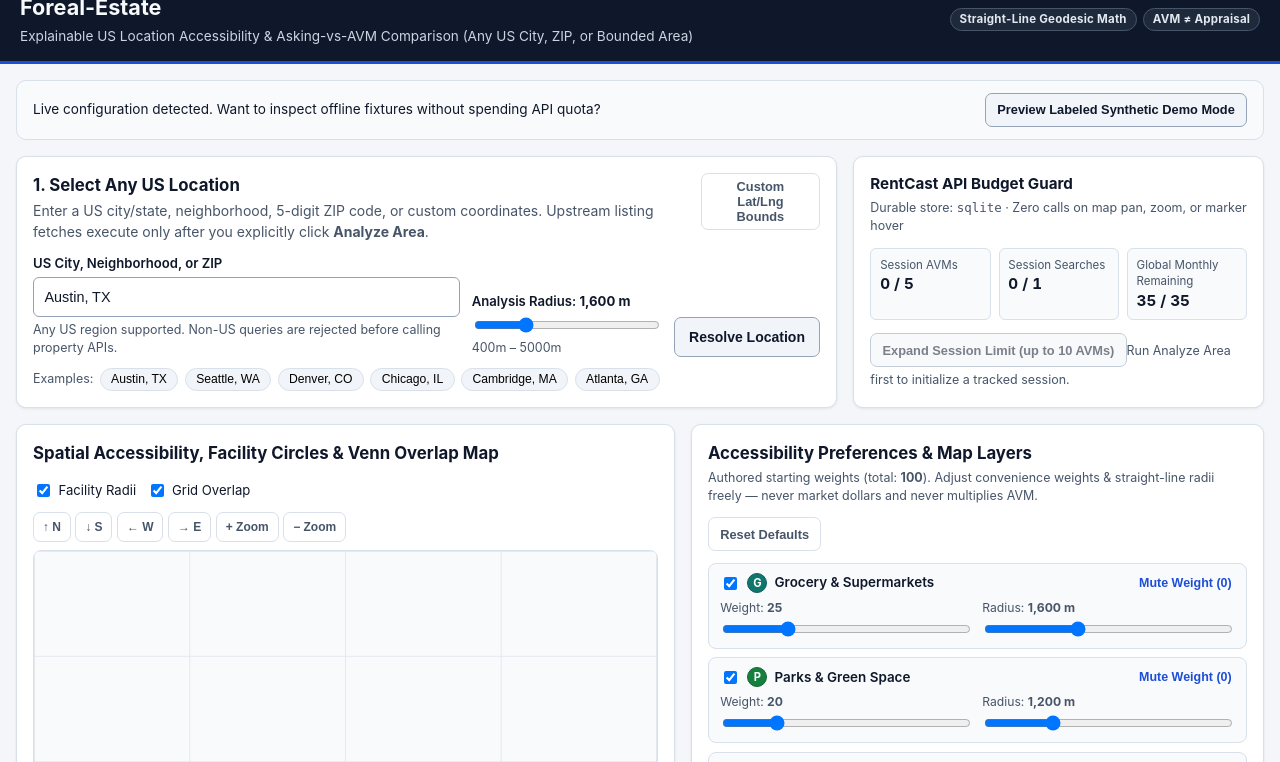
Foreal-Estate Client UI › aborts and ignores stale home AVM responses when switching homes and surfaces quota_exhausted state
Earlier steps of the test are not shown.
Click the button "Resolve Location".
click(747, 337)  # box left=674, top=317, right=820, bottom=357
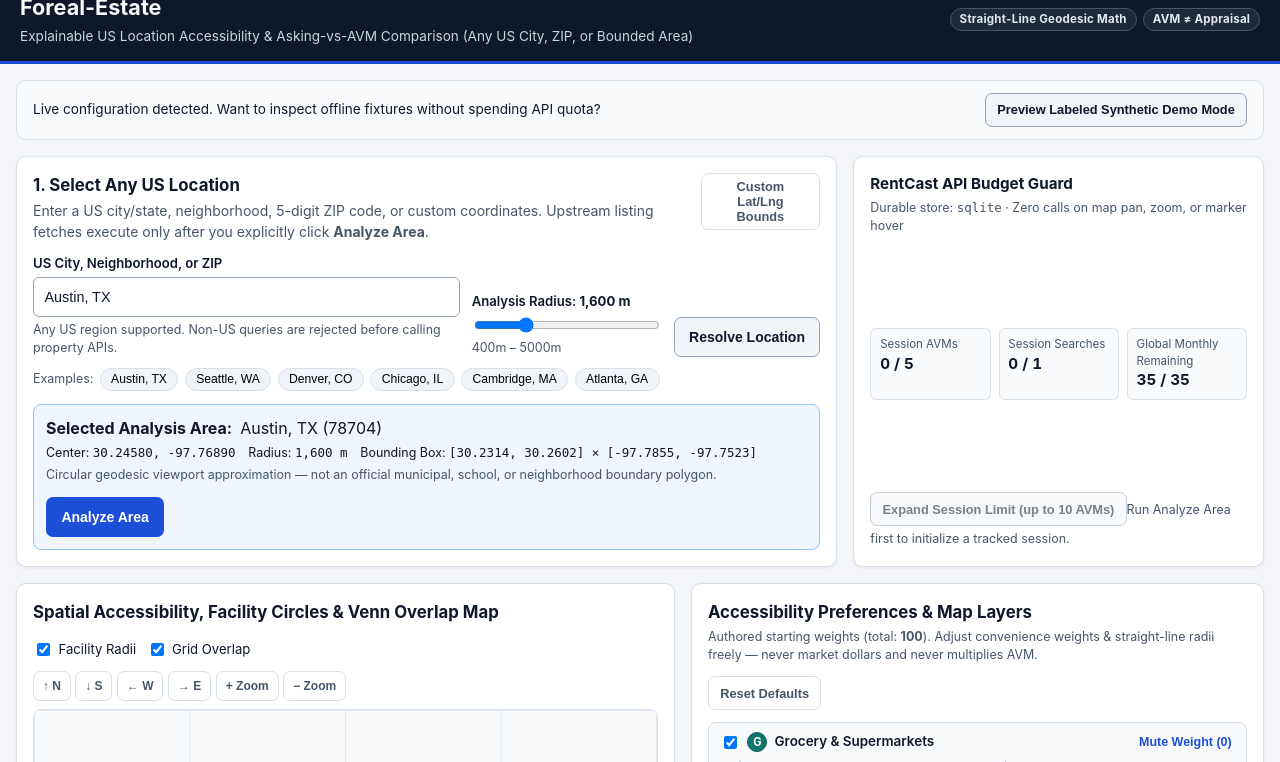
Now the element with test id "confirmed-area-box" is shown, box left=33, top=404, right=820, bottom=550
Click the button with test id "analyze-area-button".
click(105, 516)  # box left=46, top=496, right=164, bottom=536
(page scrolled)
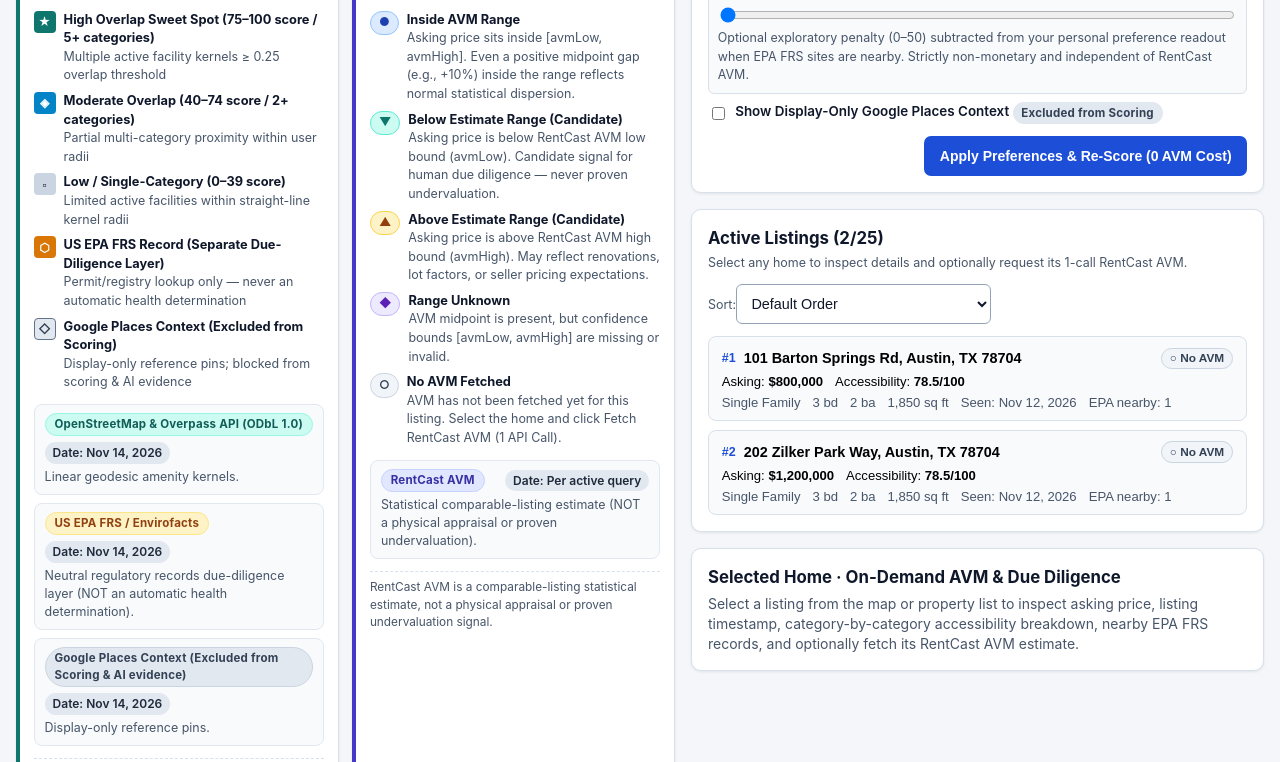
Now the button with test id "property-card-prop-a" is shown
# Select home A and trigger slow AVM fetch
Click the button with test id "property-card-prop-a".
click(883, 358)  # box left=708, top=336, right=1247, bottom=421
(page scrolled)
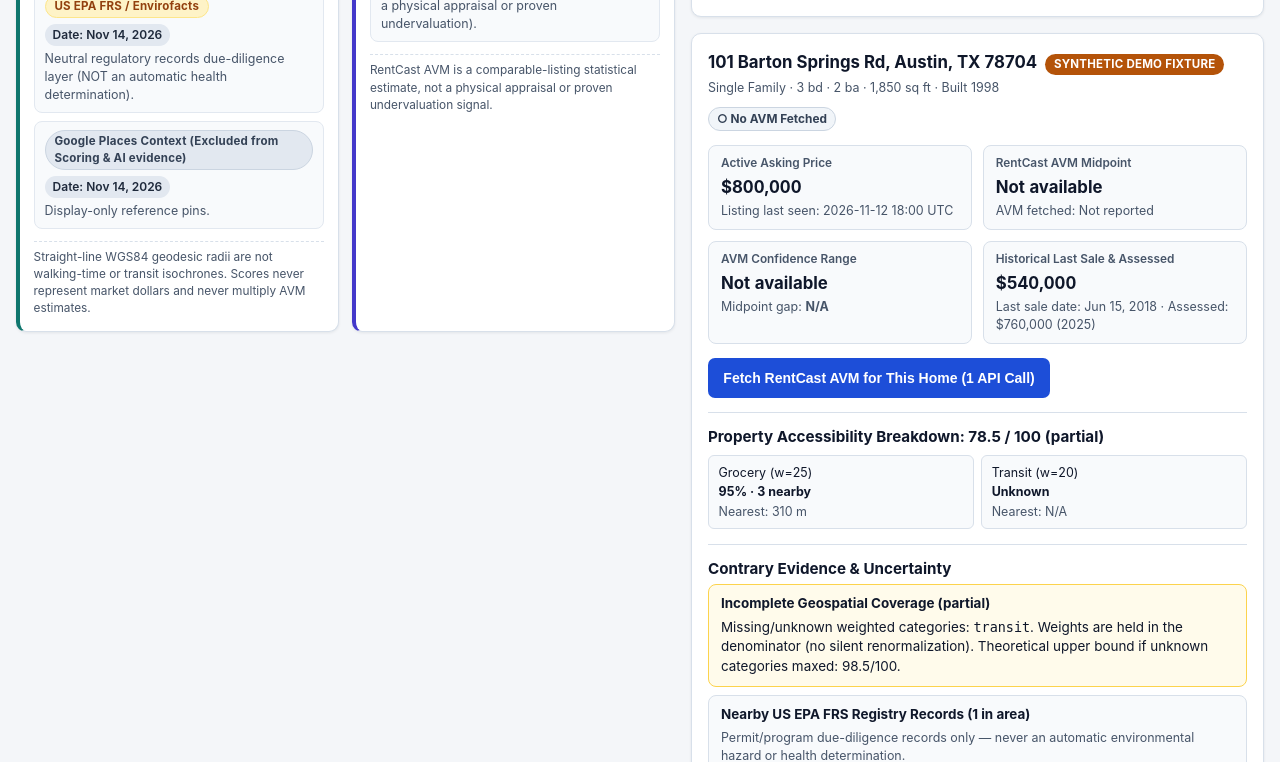
Click the button with test id "fetch-avm-button".
click(879, 378)  # box left=708, top=358, right=1050, bottom=398
(page scrolled)
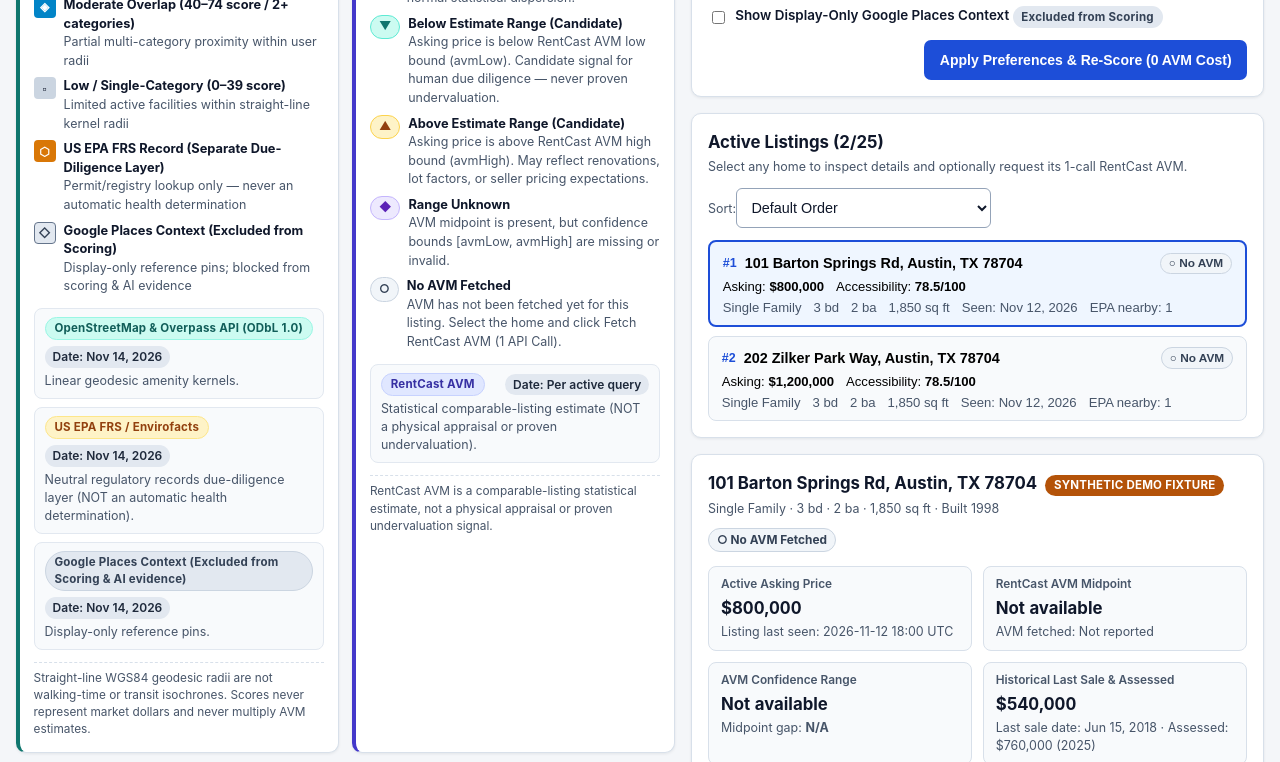
Click the button with test id "property-card-prop-b".
click(978, 379)  # box left=708, top=336, right=1247, bottom=421
(page scrolled)
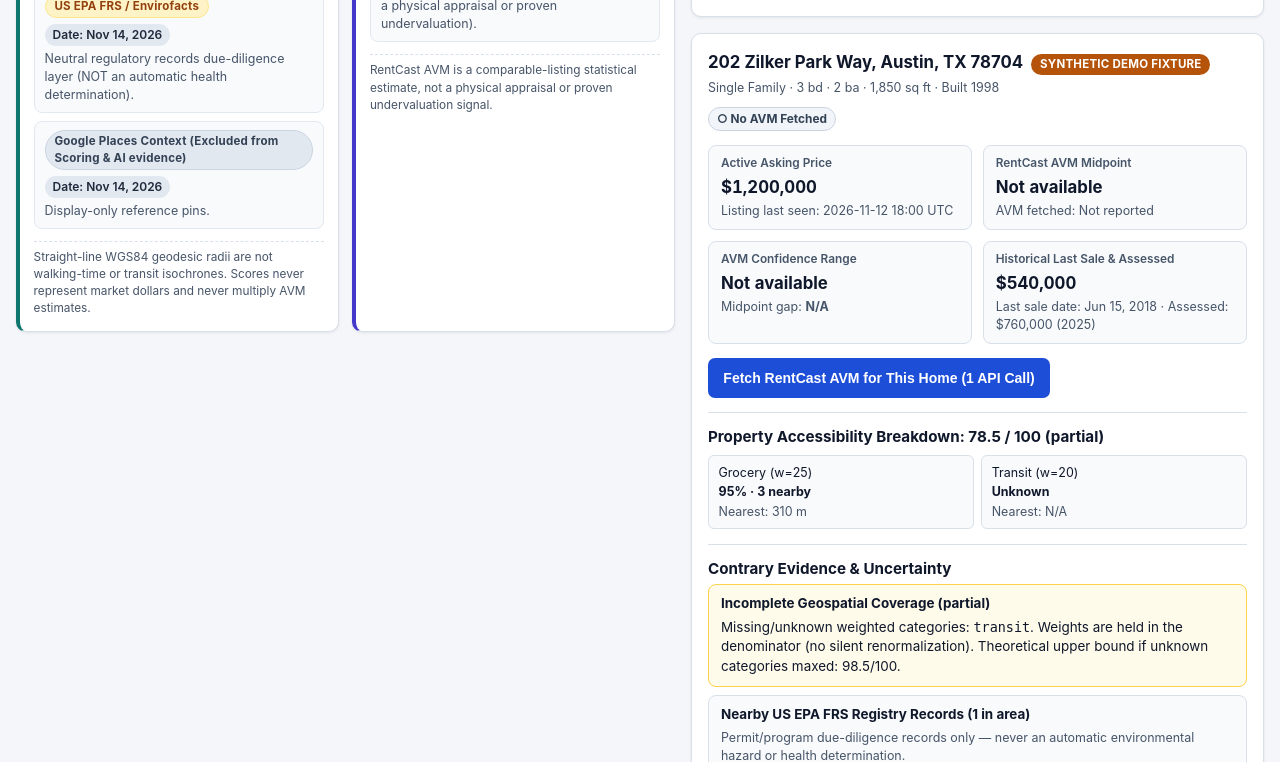
Now the text with test id "detail-avm-price" reads "Not available", box left=996, top=177, right=1102, bottom=197
Now the element with test id "property-detail-drawer" shows "202 Zilker Park Way, Austin, TX 78704", box left=708, top=52, right=1023, bottom=72
Click the button with test id "fetch-avm-button".
click(879, 378)  # box left=708, top=358, right=1050, bottom=398
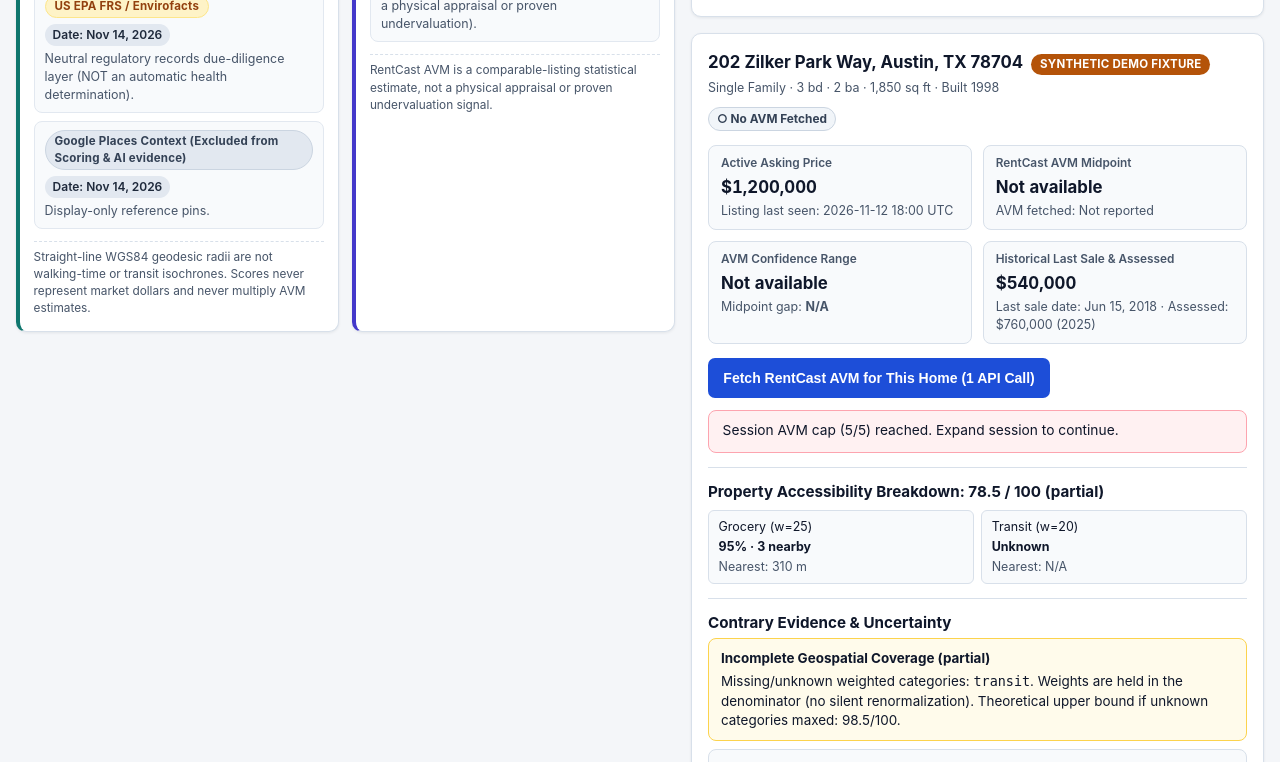
Now the text "Session AVM cap (5/5) reached. Expand session to continue." is shown, box left=708, top=410, right=1247, bottom=453
